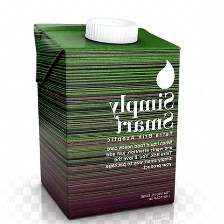carton: (32, 14, 182, 222)
